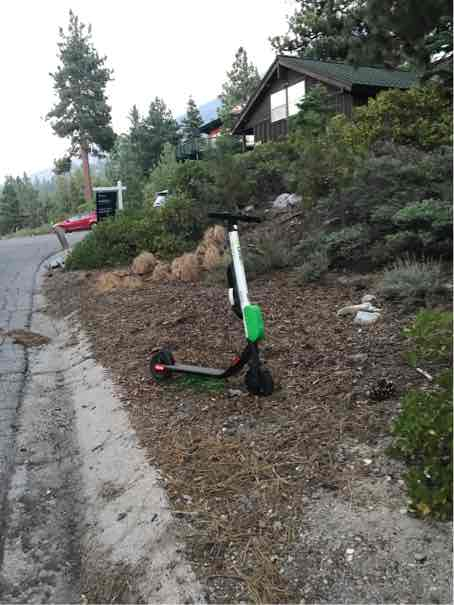scooter: (137, 216, 283, 391)
